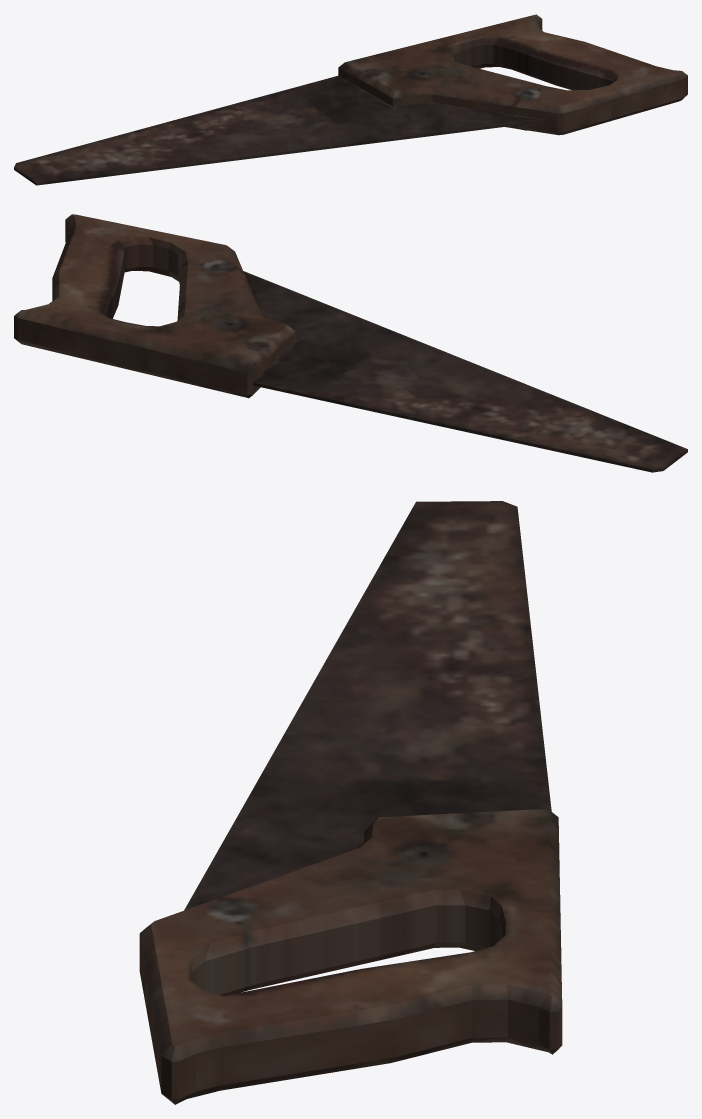
The model's file is hand_saw_1.fbx.
3 views of the same model, one above another, from view 1: azimuth 30°, elevation 25°; view 2: azimuth 150°, elevation 25°; view 3: azimuth 270°, elevation 25° (orthographic). The views are drawn at different scales.
Visible parts, largest first — view 1: hand_saw_1; view 2: hand_saw_1; view 3: hand_saw_1.
Part boxes in pixels (<box>): hand_saw_1: <box>14,14,687,185</box>; hand_saw_1: <box>14,214,687,472</box>; hand_saw_1: <box>139,501,562,1104</box>.
Bounding box in the file's own units: 0.7027 × 0.2175 × 0.038.
